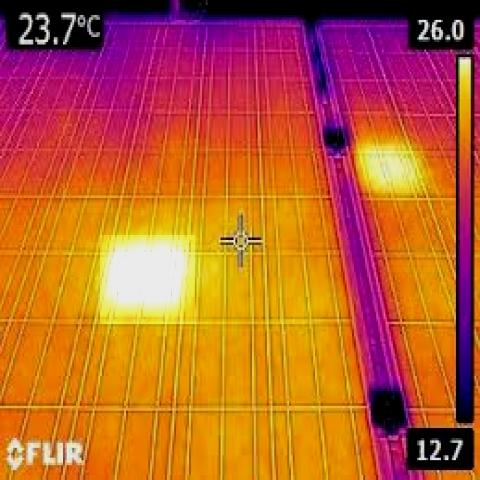fault: (100, 235, 195, 324), (356, 131, 424, 203)
